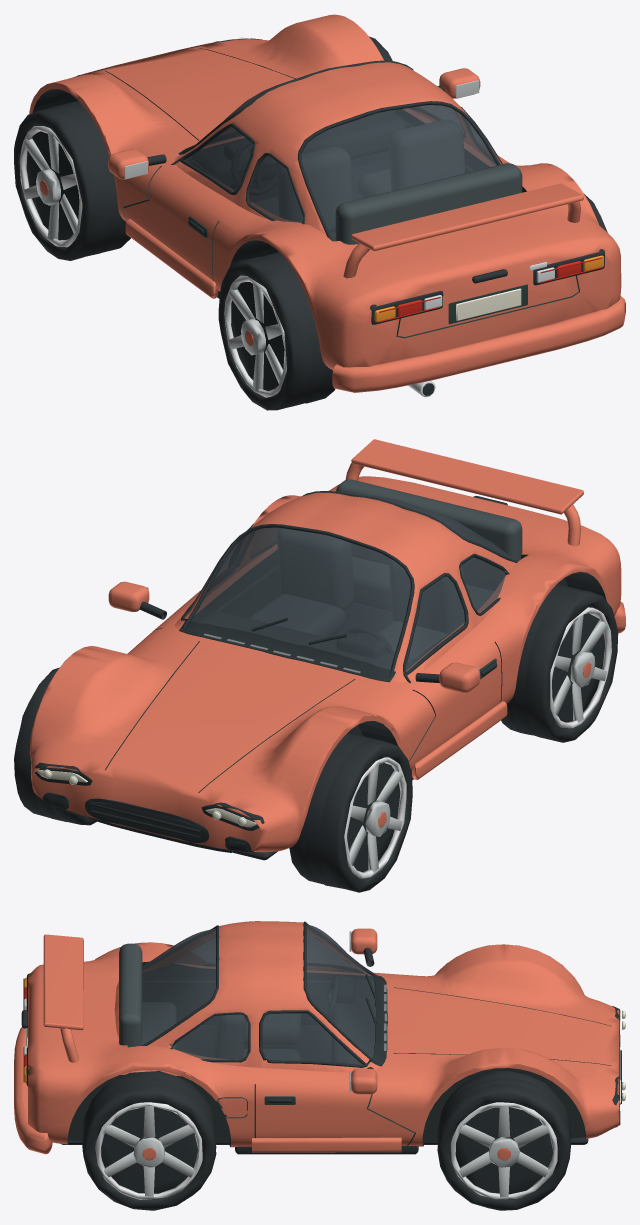
File: tsuki_lod2.fbx
3 renders of one model, top to bottom at view 1: azimuth 30°, elevation 25°; view 2: azimuth 150°, elevation 25°; view 3: azimuth 270°, elevation 25°, orthographic. The views are drawn at different scales.
Parts seen in each view (by area): view 1: Body, Wheel_FL_Mesh, Wheel_RL_Mesh; view 2: Body, Wheel_FL_Mesh, Wheel_RL_Mesh, Wheel_FR_Mesh; view 3: Body, Wheel_FR_Mesh, Wheel_RR_Mesh.
Boxes of the visible parts, left/top/right/bottom form: Body: left=29, top=14, right=625, bottom=397; Wheel_FL_Mesh: left=14, top=101, right=130, bottom=260; Wheel_RL_Mesh: left=218, top=252, right=335, bottom=410; Body: left=29, top=439, right=625, bottom=860; Wheel_FL_Mesh: left=289, top=733, right=412, bottom=892; Wheel_RL_Mesh: left=501, top=584, right=618, bottom=742; Wheel_FR_Mesh: left=14, top=667, right=96, bottom=825; Body: left=14, top=921, right=625, bottom=1154; Wheel_FR_Mesh: left=437, top=1070, right=571, bottom=1210; Wheel_RR_Mesh: left=82, top=1071, right=216, bottom=1210.
Bounding box in the file's own units: 233 × 143 × 393.
